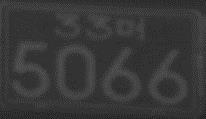0: (55, 42, 97, 101)
3: (54, 11, 82, 40), (85, 13, 112, 41)
5: (11, 40, 50, 98)
6: (147, 47, 188, 106), (100, 46, 141, 104)
머: (115, 15, 145, 43)
